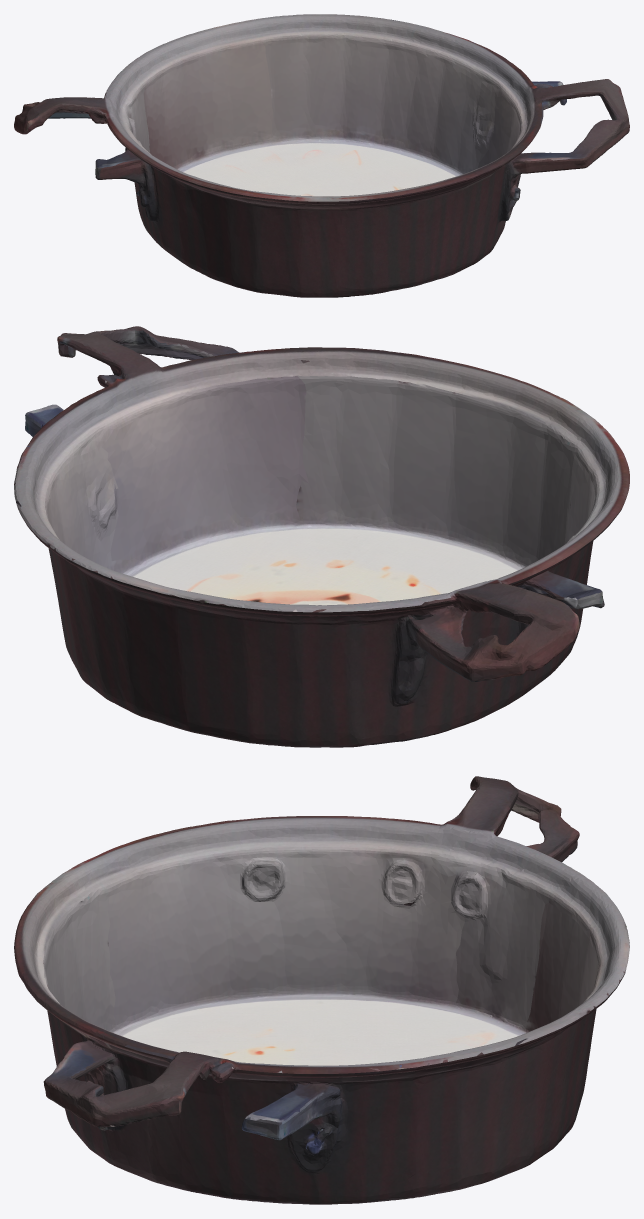
Rendered from image_0003_segmented.glb.
The picture shows the model from 3 angles, top to bottom: view 1: azimuth 30°, elevation 25°; view 2: azimuth 150°, elevation 25°; view 3: azimuth 270°, elevation 25°; orthographic projection. The views are drawn at different scales.
Parts seen in each view (by area): view 1: tmpll5tc9vl.ply; view 2: tmpll5tc9vl.ply; view 3: tmpll5tc9vl.ply.
Part boxes in pixels (<box>): tmpll5tc9vl.ply: <box>14,14,629,297</box>; tmpll5tc9vl.ply: <box>14,326,629,747</box>; tmpll5tc9vl.ply: <box>14,776,629,1204</box>.
Bounding box in the file's own units: 2 × 0.4995 × 1.58.
Materials: 1 (1 with a texture image).
